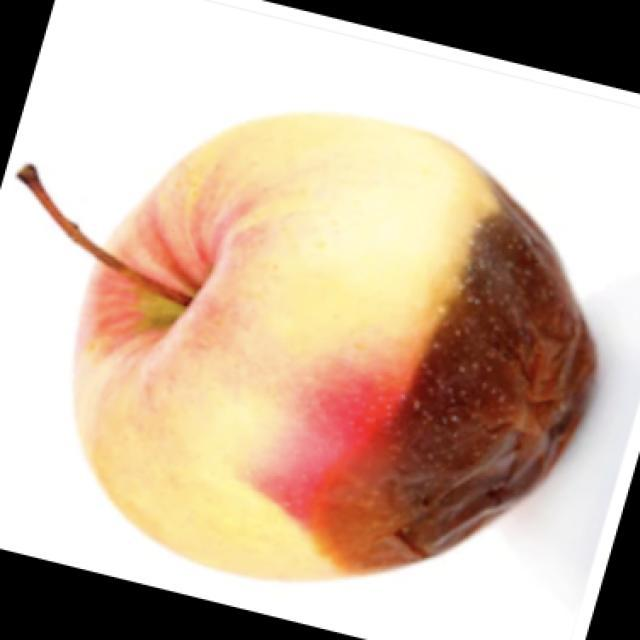Rotten: (45, 118, 613, 597)
